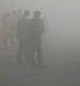person: (29, 10, 47, 68), (15, 10, 33, 65), (1, 10, 14, 54)
